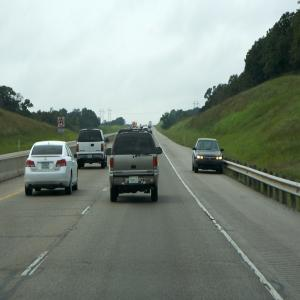Vehicle-registration-plate: (130, 177, 140, 185), (41, 164, 51, 170), (87, 157, 93, 159)
